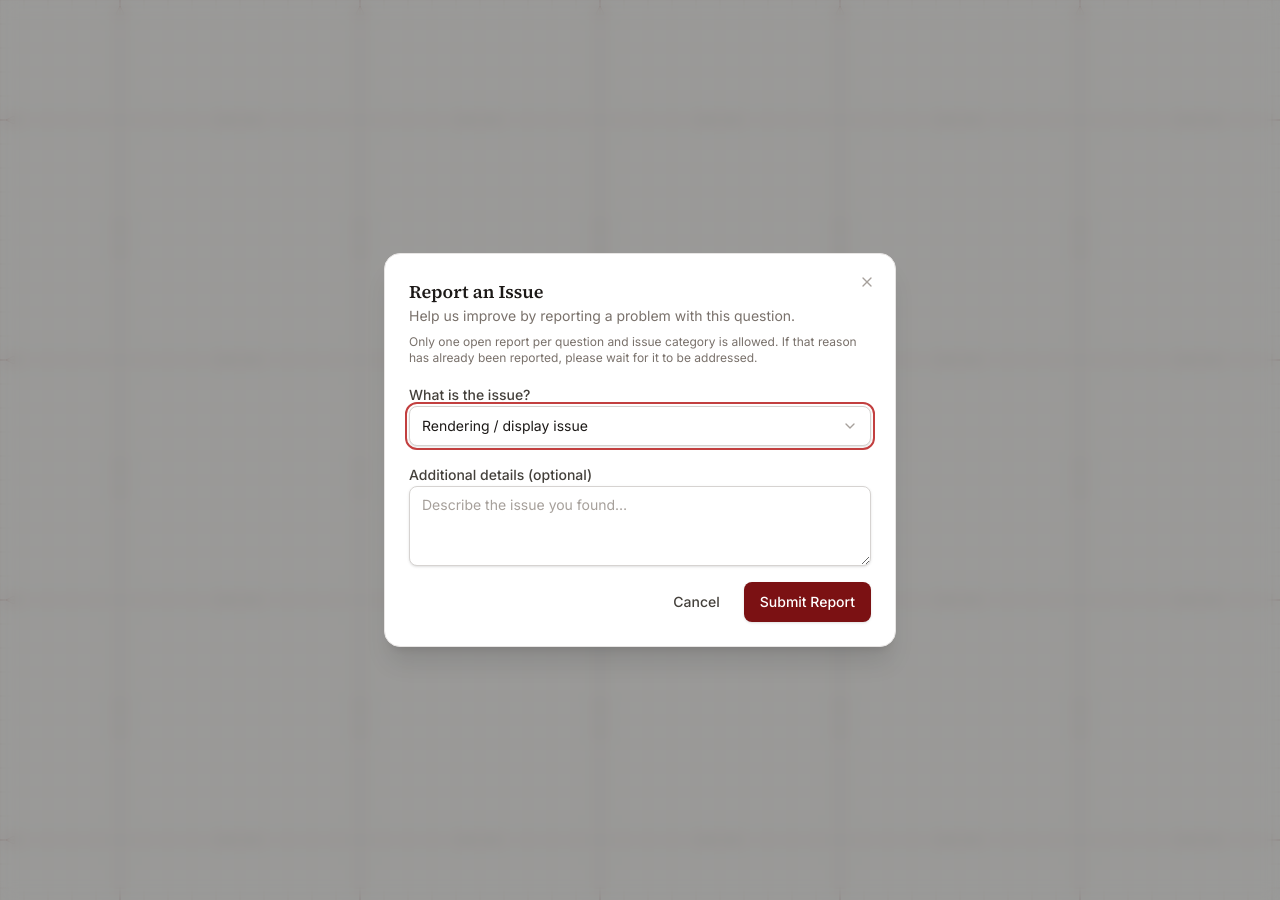
explains a duplicate rejection and retains the report details
Type "My details" into the text box at x=640, y=526, box 409,486 -> 871,566
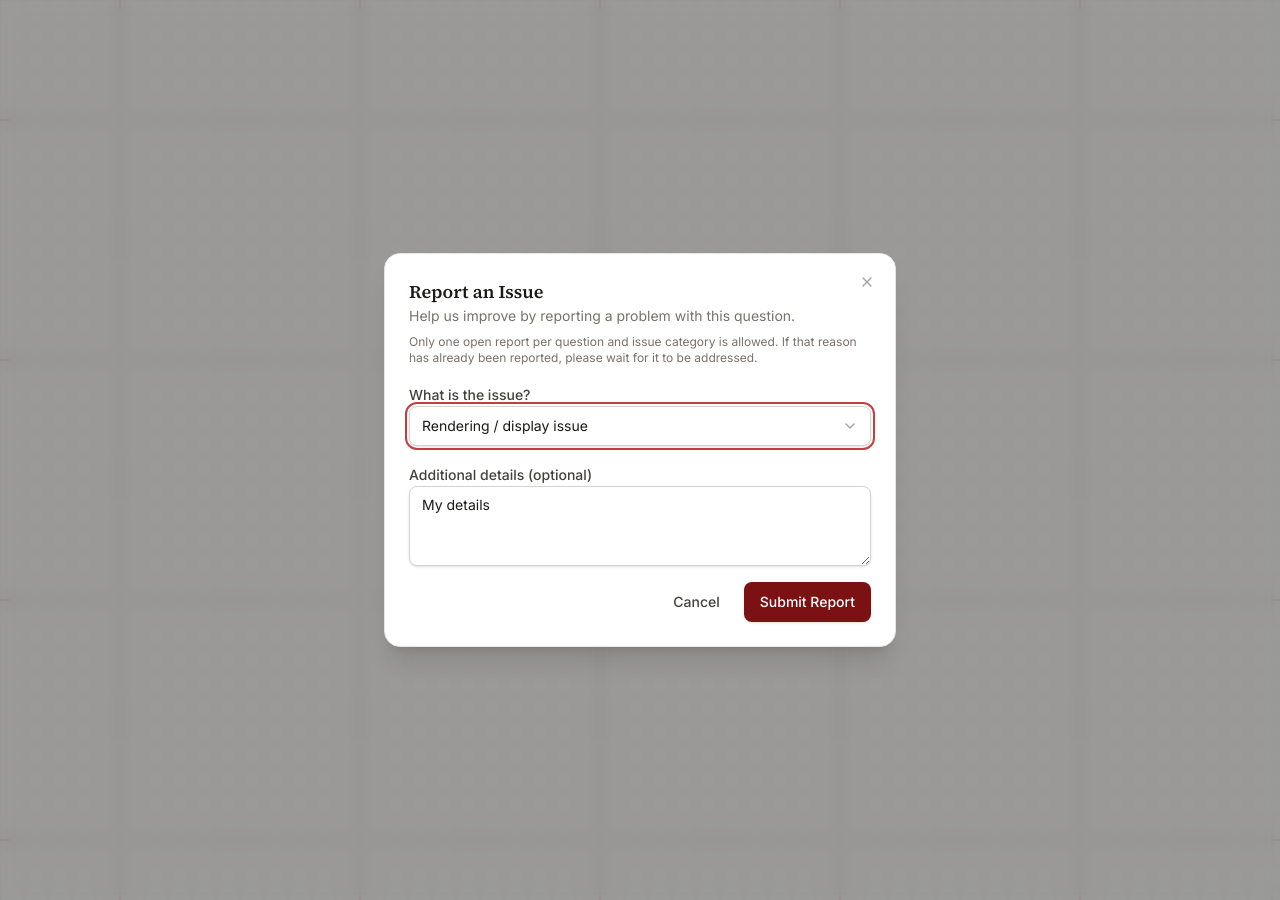
Click the button "Submit Report" at x=807, y=602, box 744,582 -> 871,622
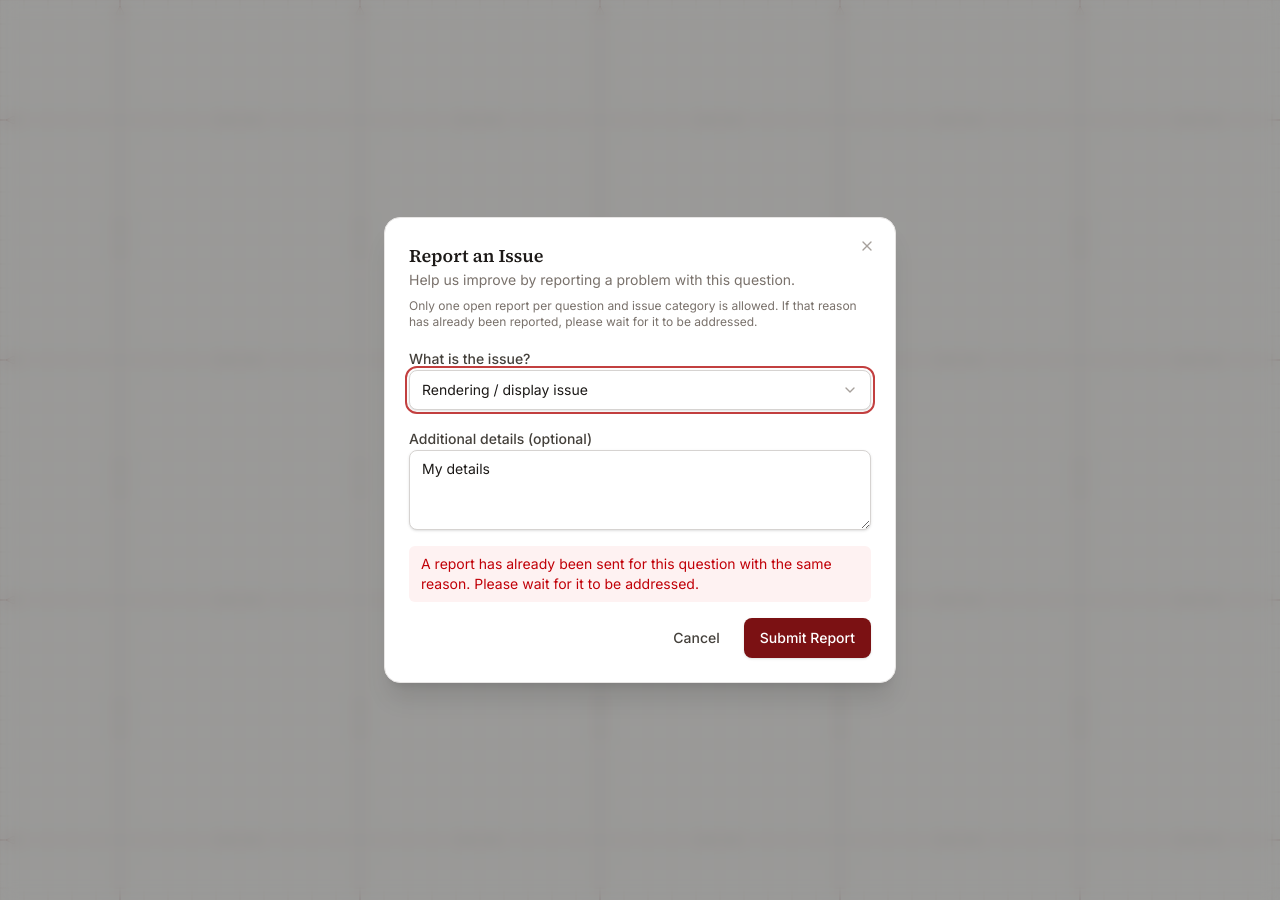
Check: the button "Submit Report" is enabled, box 744,618 -> 871,658
Check: the message shows "A report has already been sent for this question with the same reason. Please wait for it to be addressed.", box 421,555 -> 832,592
